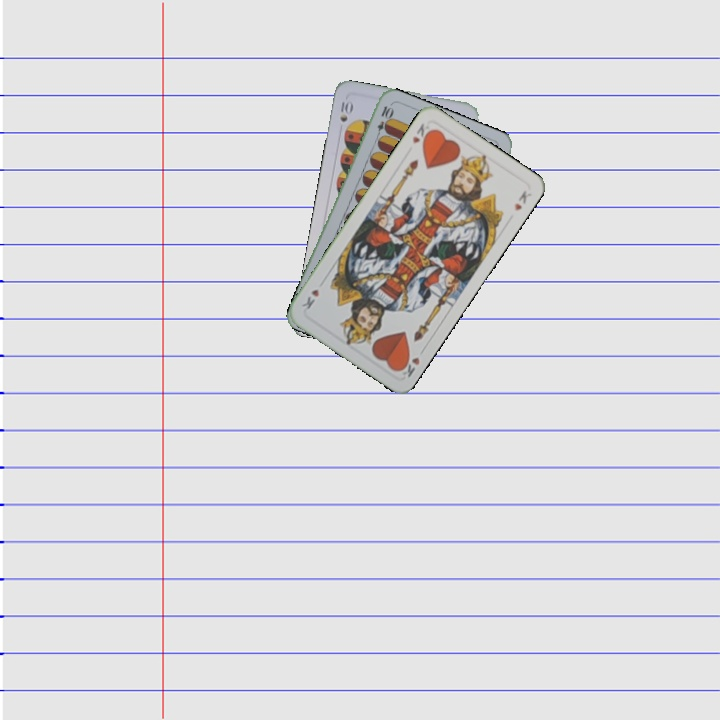E10: (372, 102, 394, 142)
HK: (395, 344, 428, 380), (408, 119, 434, 148)
S10: (336, 96, 355, 125)
